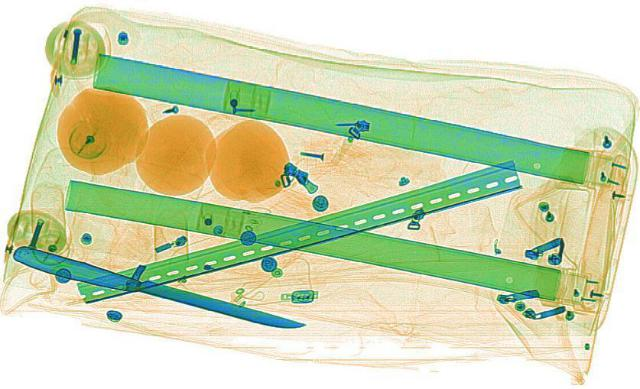Knife: (4, 243, 308, 335)
